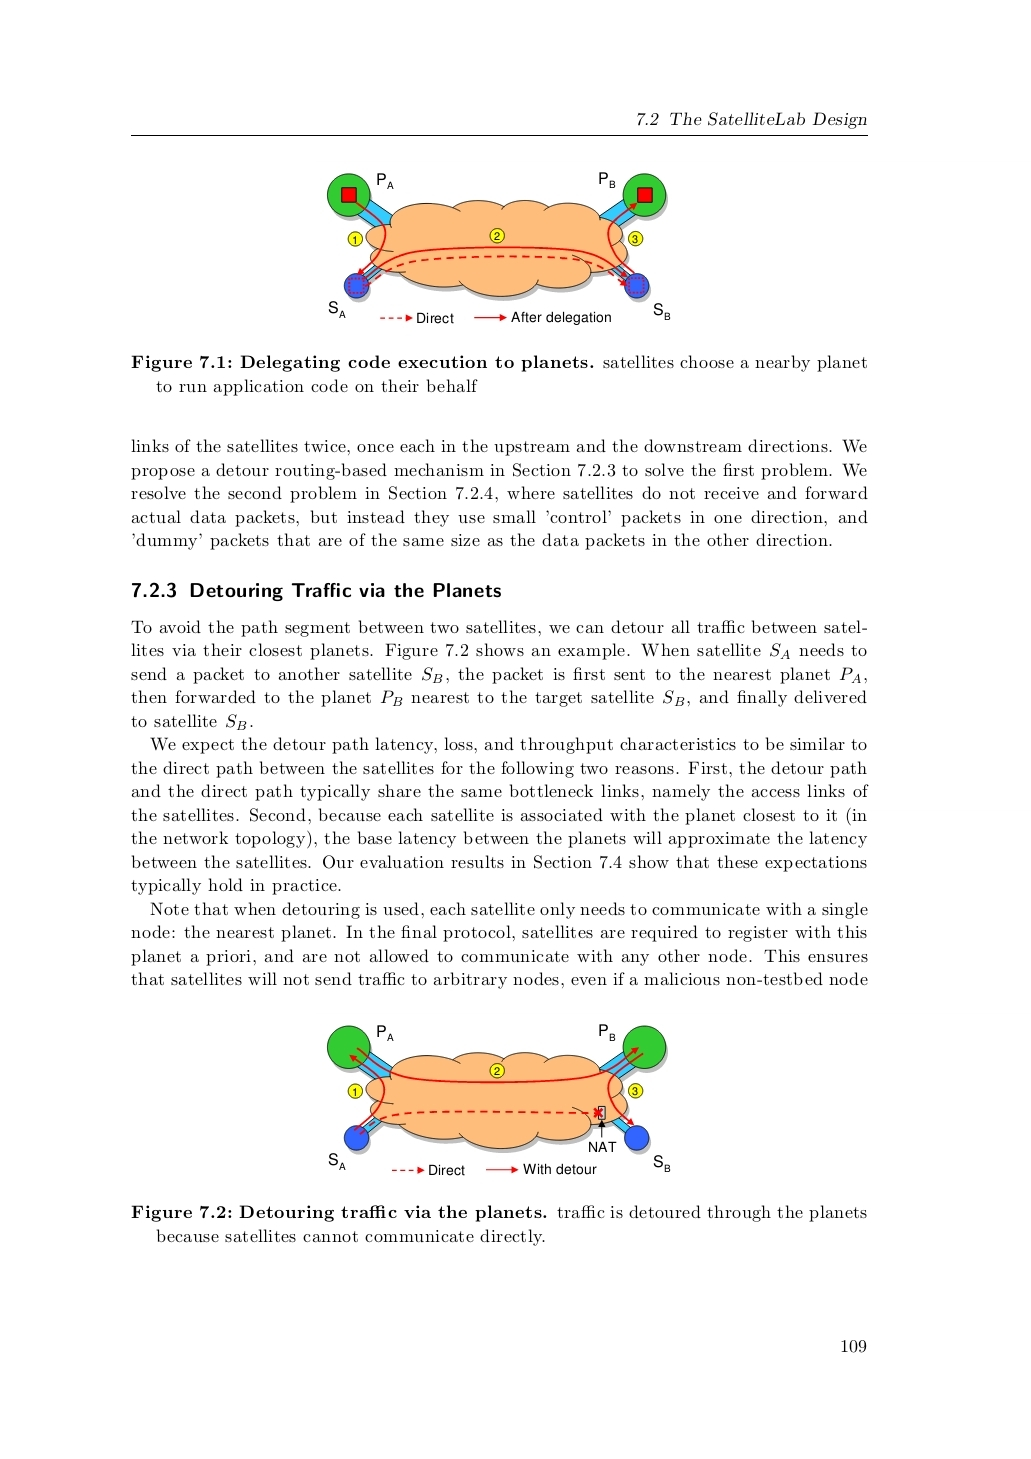figure: (326, 171, 669, 325), (326, 1022, 669, 1176)
